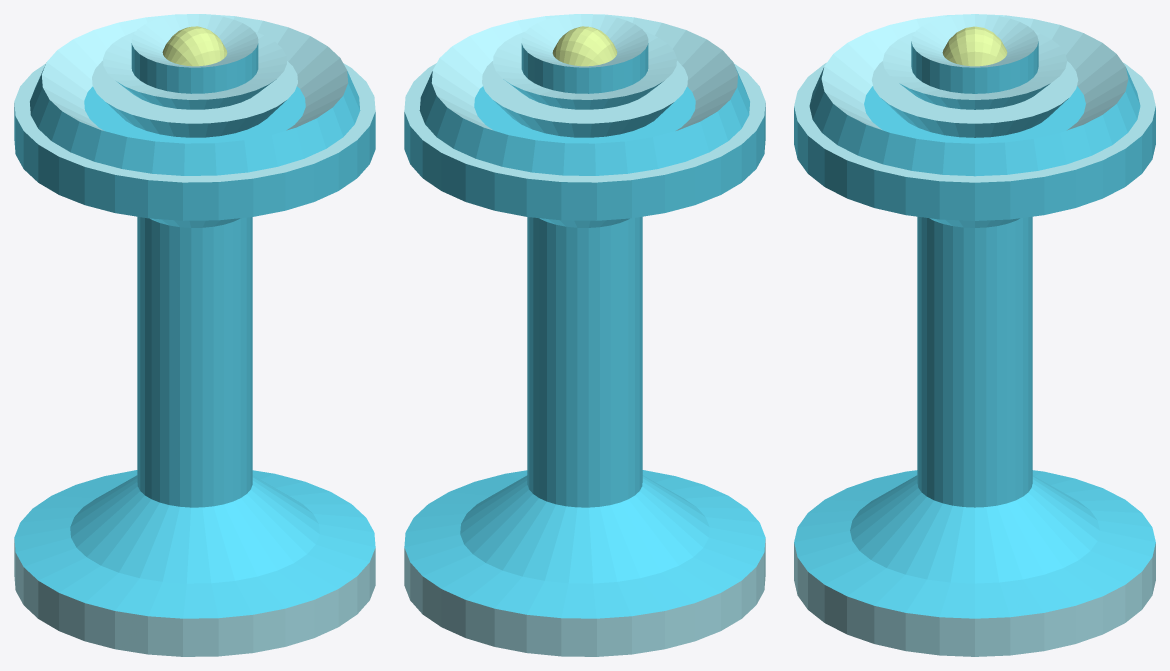
Rendered from powerup.fbx.
3 renders of one model, left to right at view 1: azimuth 30°, elevation 25°; view 2: azimuth 150°, elevation 25°; view 3: azimuth 270°, elevation 25°, orthographic.
Visible parts, largest first — view 1: Cylinder; view 2: Cylinder; view 3: Cylinder.
Boxes of the visible parts, x1=… form: Cylinder: x1=14, y1=14, x2=375, y2=656; Cylinder: x1=404, y1=14, x2=765, y2=656; Cylinder: x1=794, y1=14, x2=1155, y2=656.
Size of the model in its own units: 169 by 283 by 169.
